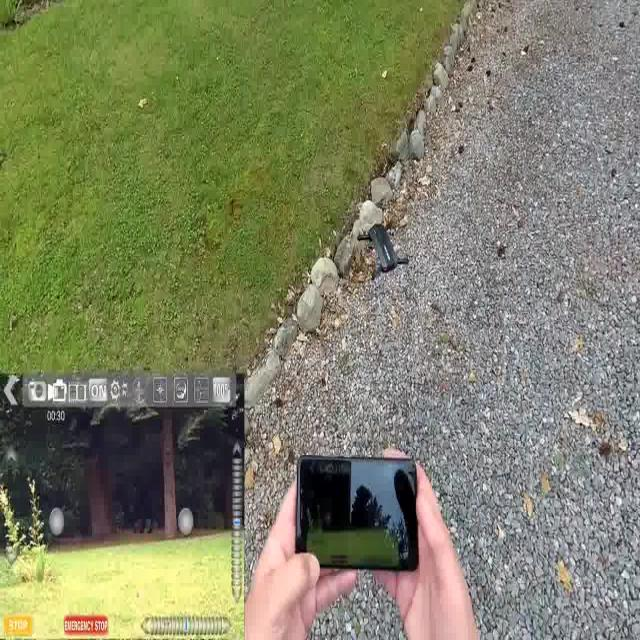Drone_FW: (357, 216, 414, 284)
